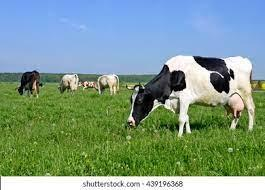cow: (126, 55, 256, 138), (17, 69, 41, 98), (95, 74, 121, 95), (58, 72, 79, 95), (79, 79, 98, 92)
